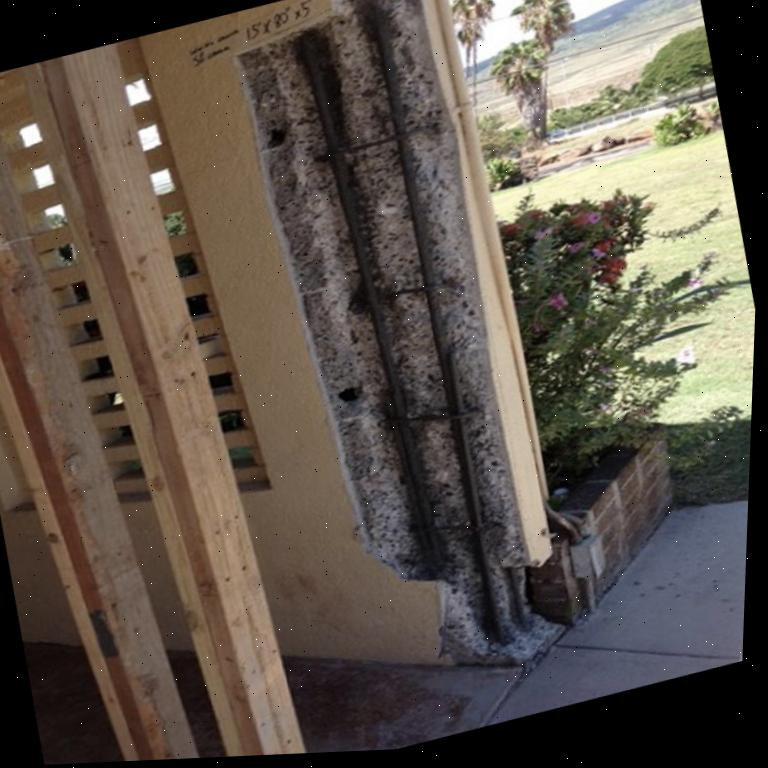exposed_rebar: (298, 22, 499, 635), (326, 124, 439, 170), (407, 405, 481, 425)
spalling: (235, 0, 565, 669)
